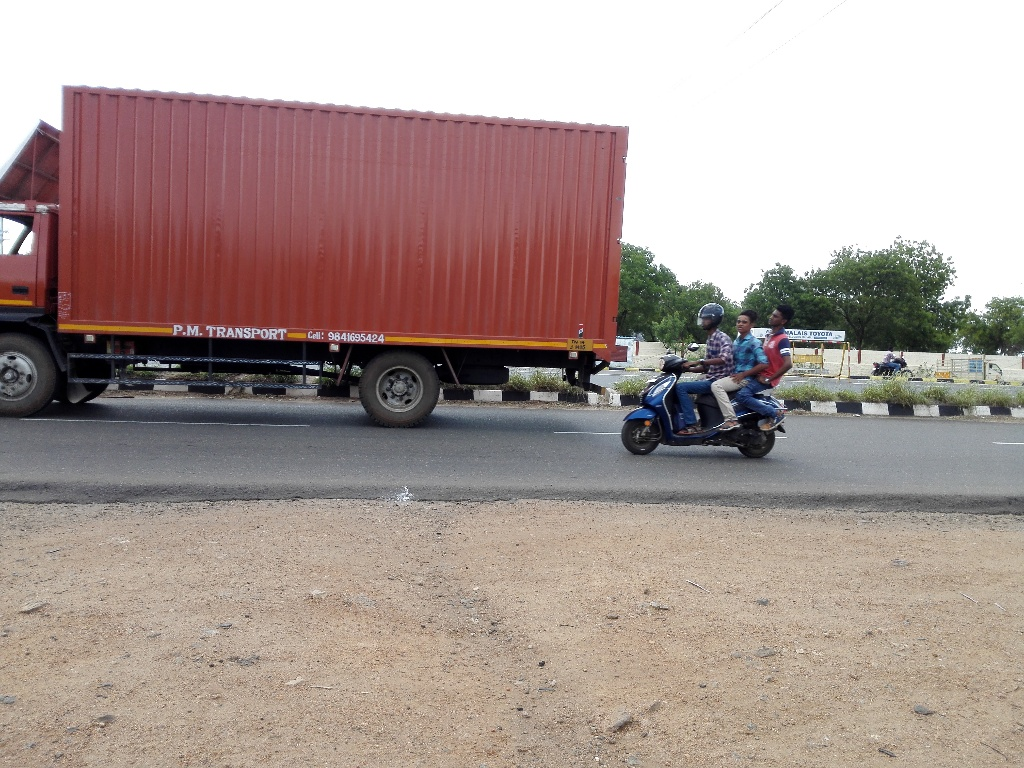biker: (612, 281, 816, 468)
helmet: (688, 293, 729, 342)
nohelmet: (763, 291, 797, 341), (729, 298, 758, 343)
